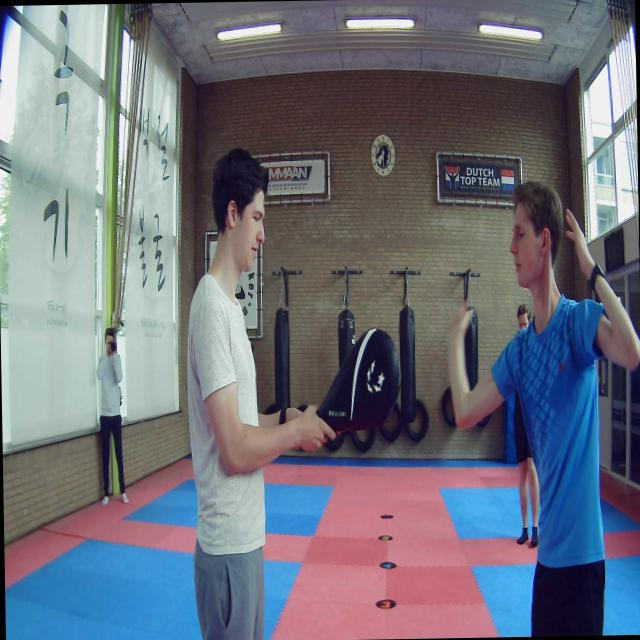paddle: (313, 325, 401, 432)
